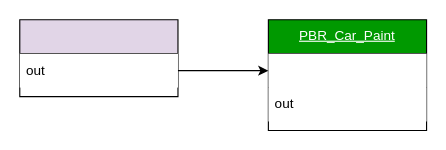
Image size: 446x150. Some labels were removed from this diagram. The box of each missing label's shape, as (x1, y1, x2, y2) in pixels:
SR_carpaint: (19, 19, 178, 97)
surfaceshader: (268, 53, 426, 87)
